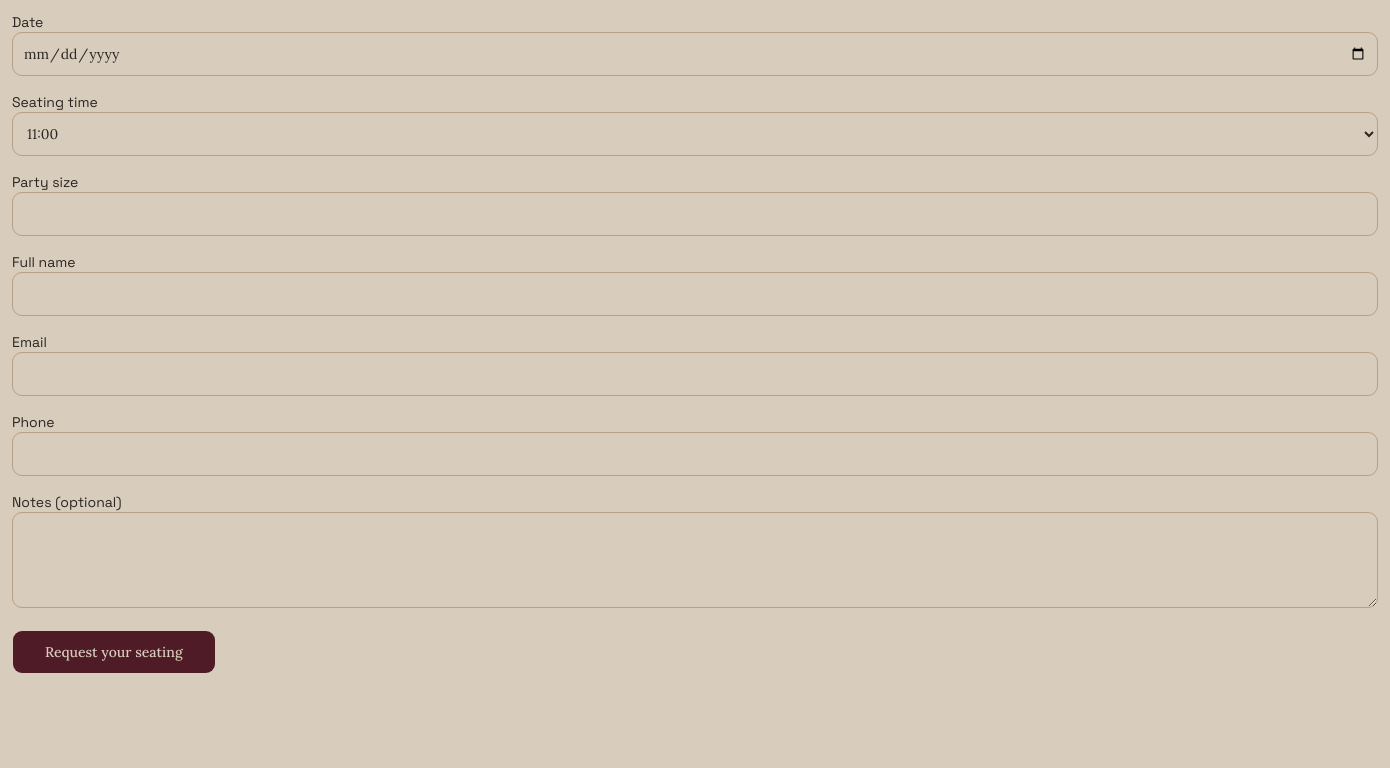
Test: ReservationForm › shows a focusable error summary and per-field errors on empty submit
The image size is (1390, 768).
Click the button "Request your seating". click: (114, 652)
box: [12,630,216,674]
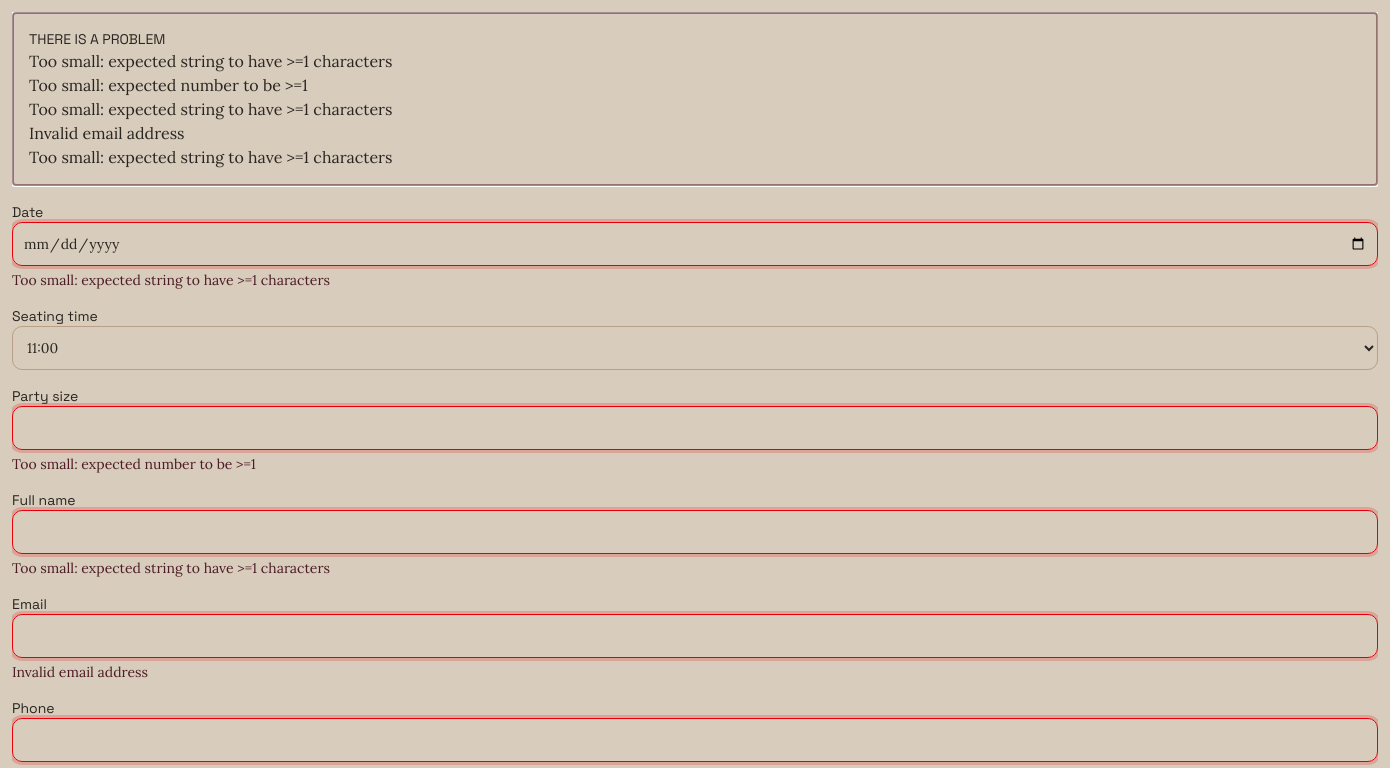
Check: the message shows "There is a problem", box [29,30,165,48]
